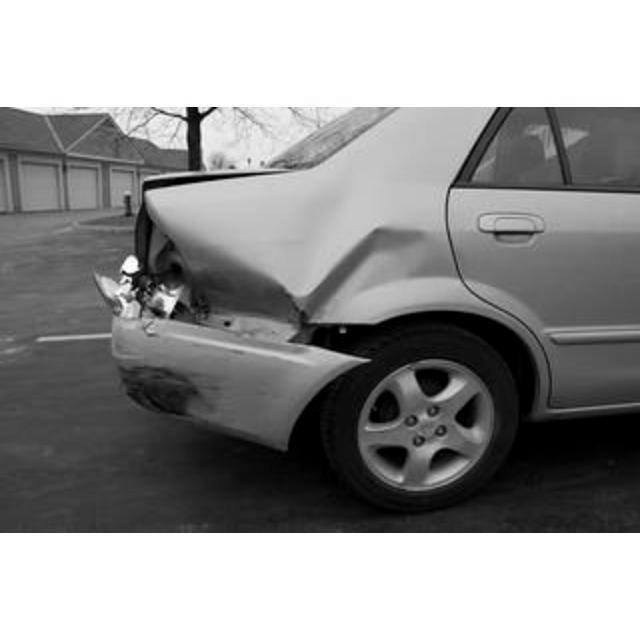Taillight-Damage: (88, 229, 204, 321)
quaterpanel-dent: (214, 175, 454, 327)
rear-bumper-dent: (112, 333, 314, 423)
